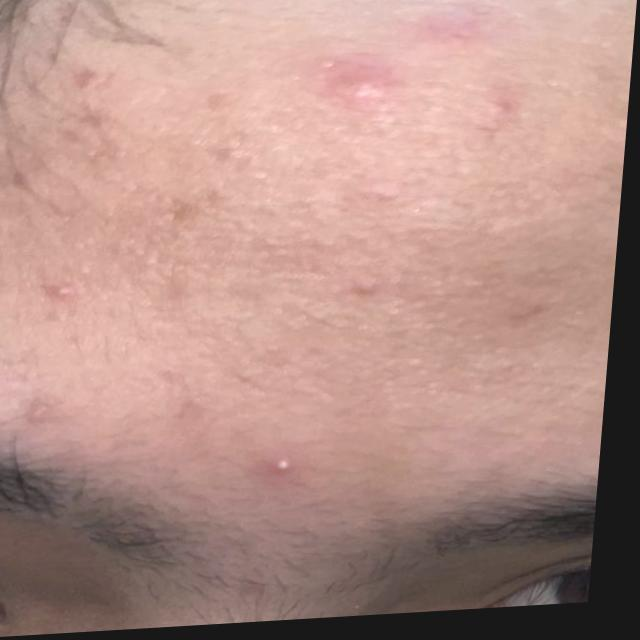papule: (313, 0, 565, 148)
pustule: (52, 268, 94, 313), (274, 451, 311, 491)
